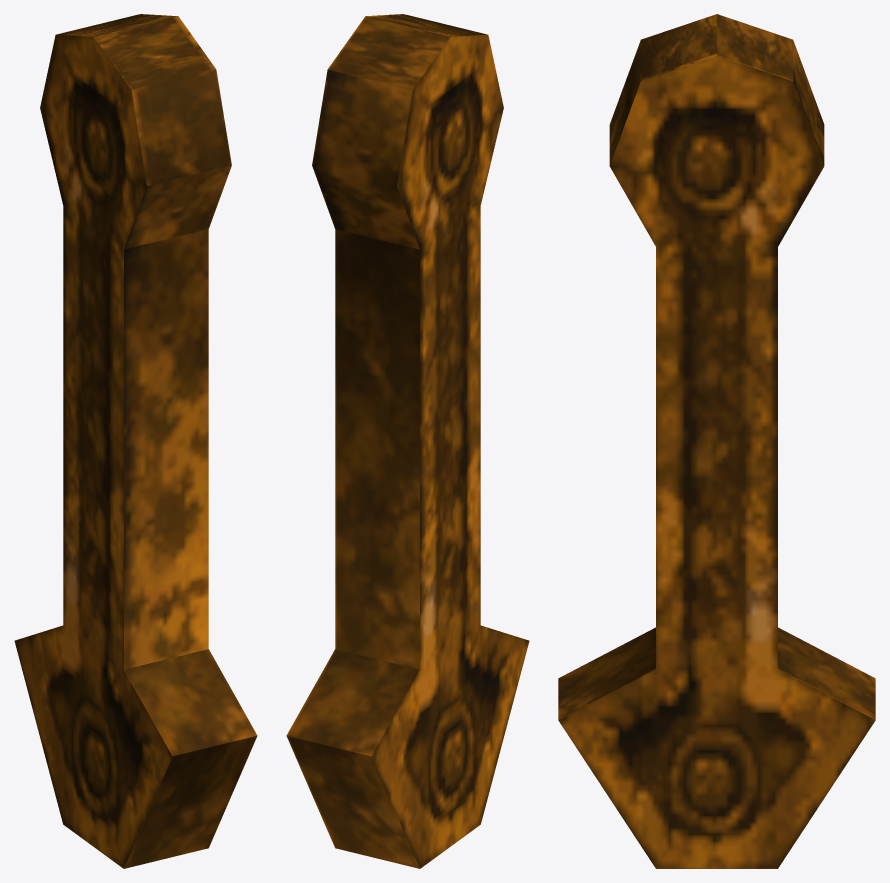
The model's file is INST_PUZZLE_PIECE4_PIECE4_COPPER.fbx.
3 renders of one model, left to right at view 1: azimuth 30°, elevation 25°; view 2: azimuth 150°, elevation 25°; view 3: azimuth 270°, elevation 25°, orthographic.
Parts seen in each view (by area): view 1: INST_PUZZLE_PIECE4_PIECE4_COPPER; view 2: INST_PUZZLE_PIECE4_PIECE4_COPPER; view 3: INST_PUZZLE_PIECE4_PIECE4_COPPER.
Part boxes in pixels (<box>): INST_PUZZLE_PIECE4_PIECE4_COPPER: <box>14,14,257,868</box>; INST_PUZZLE_PIECE4_PIECE4_COPPER: <box>286,14,529,868</box>; INST_PUZZLE_PIECE4_PIECE4_COPPER: <box>558,14,875,868</box>.
Bounding box in the file's own units: 425 × 3867 × 1369.
Materials: 1 (1 with a texture image).
